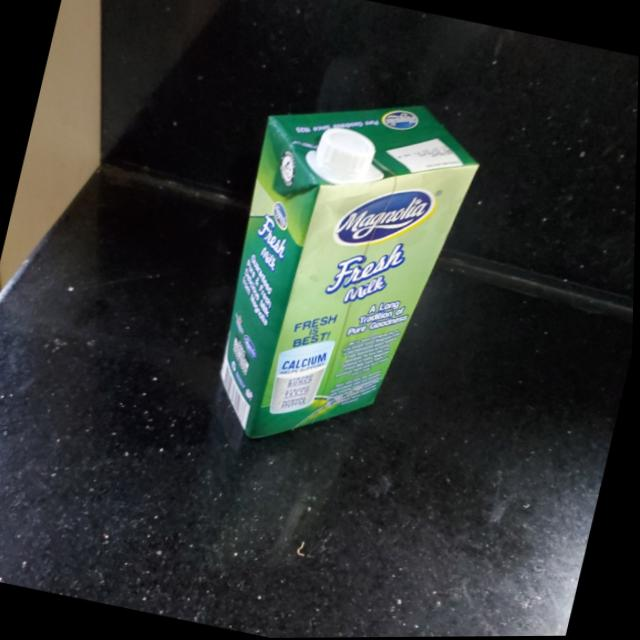milk: (200, 72, 501, 474)
